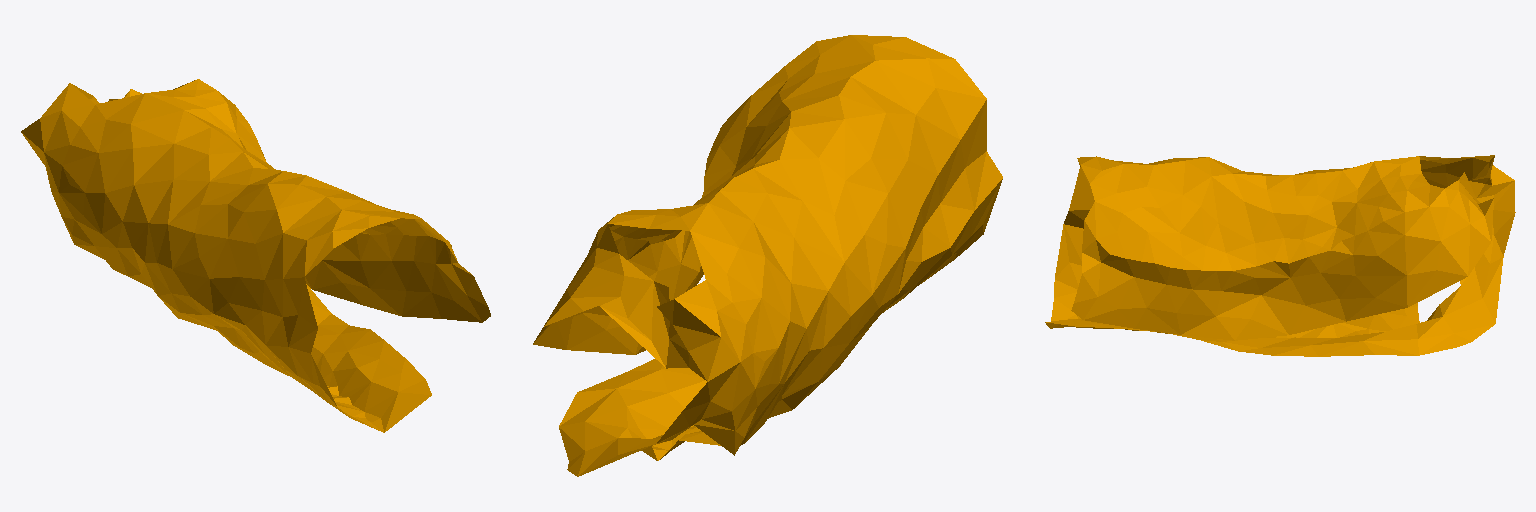
robot.urdf — init:
<?xml version='1.0' encoding='utf-8'?>
<robot name="init">
<link name="link_0"><inertial><mass value="1.0" /><origin rpy="0 0 0" xyz="0.000000 0.000000 0.000000" /><inertia ixx="1.0" ixy="0.0" ixz="0.0" iyy="1.0" iyz="0.0" izz="1.0" /></inertial><visual><origin rpy="0 0 0" xyz="0.000000 0.000000 0.000000" /><geometry><mesh filename="./clothHuman/cloth/2904.obj" /></geometry></visual><collision><origin rpy="0 0 0" xyz="0.000000 0.000000 0.000000" /><geometry><mesh filename="./clothHuman/cloth/2904.obj" /></geometry></collision></link></robot>

--- Render facts (derived) ---
Views: 3 orthographic renders of the robot side by side, from view 1: azimuth 30°, elevation 25°; view 2: azimuth 150°, elevation 25°; view 3: azimuth 270°, elevation 25°.
Model init with 1 links and 0 joints (none), rooted at link_0, posed every joint at zero.
Visible links, largest first — view 1: link_0; view 2: link_0; view 3: link_0.
Link boxes in pixels (<box>): link_0: <box>21,79,490,432</box>; link_0: <box>533,35,1002,476</box>; link_0: <box>1045,155,1515,356</box>.
Size in the robot's own frame: 1.77 by 3.91 by 1.6 metres.
1 mesh visuals loaded from 1 distinct referenced files (1 OBJ).